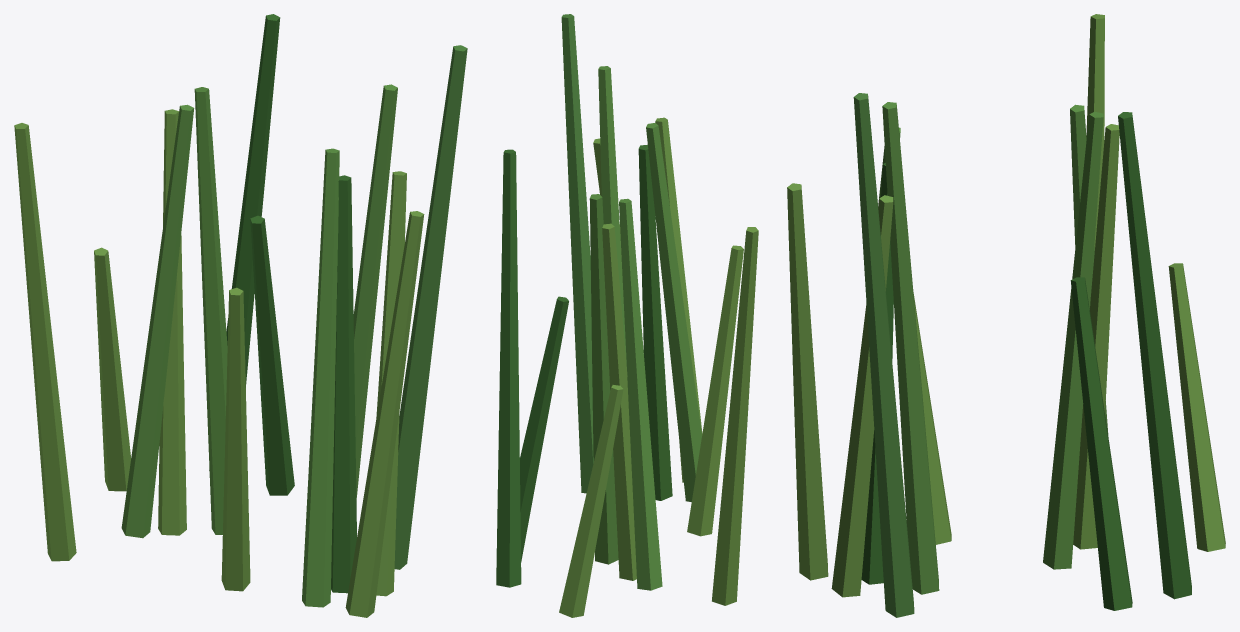
Rendered from GrassTuft.glb.
3 renders of one model, left to right at view 1: azimuth 30°, elevation 25°; view 2: azimuth 150°, elevation 25°; view 3: azimuth 270°, elevation 25°, orthographic. The views are drawn at different scales.
Parts seen in each view (by area): view 1: Body; view 2: Body; view 3: Body.
Part boxes in pixels (x1,y1,x2,y2): Body: (14,14,467,617); Body: (496,14,758,617); Body: (787,14,1225,617).
Size of the model in its own units: 1.02 by 1.51 by 1.11.
